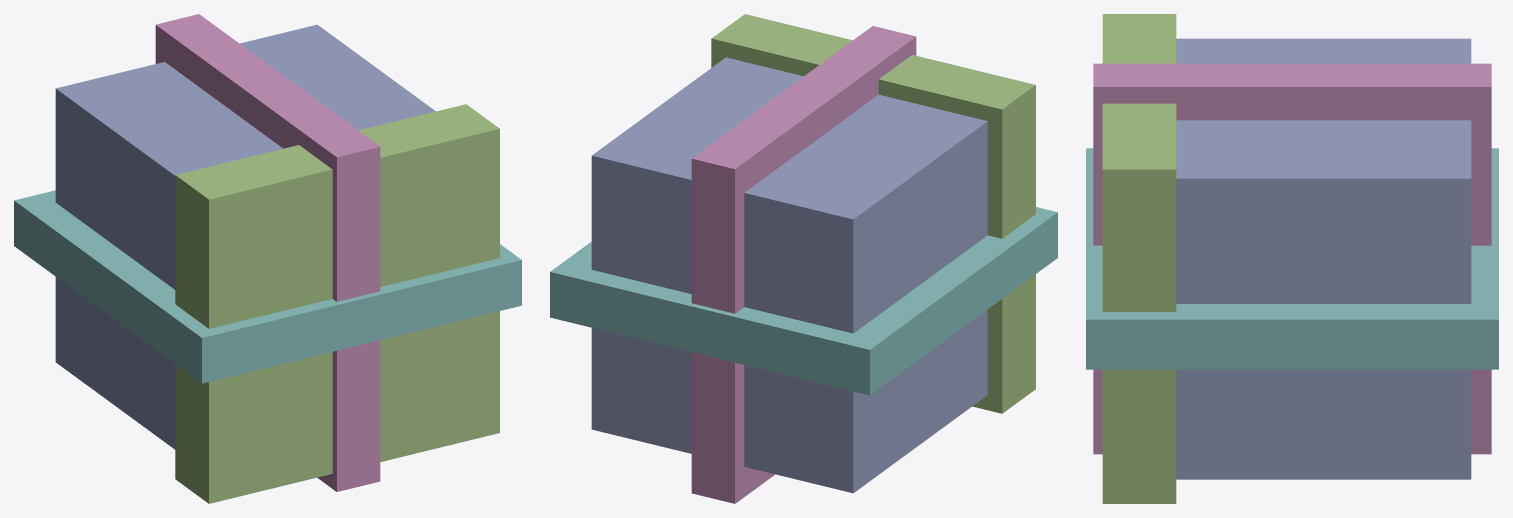
The picture shows the model from 3 angles, left to right: view 1: azimuth 30°, elevation 25°; view 2: azimuth 150°, elevation 25°; view 3: azimuth 270°, elevation 25°; orthographic projection. The views are drawn at different scales.
Parts seen in each view (by area): view 1: part1, part0, part3, part2; view 2: part0, part3, part2, part1; view 3: part0, part3, part1, part2.
Part boxes in pixels (<box>): part1: <box>175,104,499,503</box>; part0: <box>55,24,435,449</box>; part3: <box>14,190,521,383</box>; part2: <box>155,14,380,491</box>; part0: <box>591,57,987,493</box>; part3: <box>550,207,1057,395</box>; part2: <box>691,26,916,503</box>; part1: <box>711,14,1035,413</box>; part0: <box>1176,38,1471,479</box>; part3: <box>1086,148,1498,369</box>; part1: <box>1102,14,1176,503</box>; part2: <box>1093,63,1491,454</box>.
Bounding box in the file's own units: 2.2 × 2.2 × 2.24.
